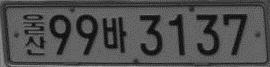1: (166, 14, 190, 56)
3: (138, 14, 163, 55), (196, 14, 220, 55)
7: (222, 13, 247, 57)
9: (75, 13, 98, 55), (49, 13, 71, 55)
바: (102, 16, 127, 54)
울산_V: (22, 13, 46, 56)
